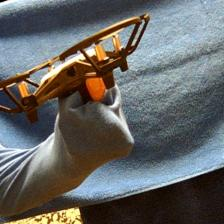drone: (1, 13, 150, 127)
